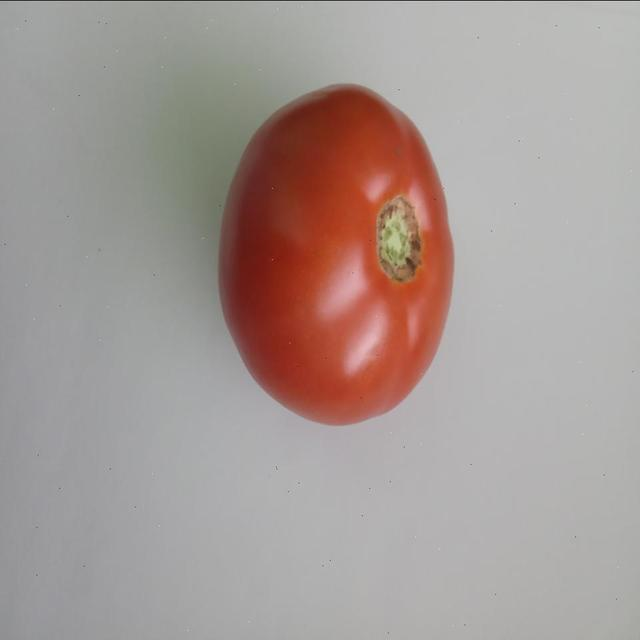Healthy Fruit: (140, 51, 310, 291)
